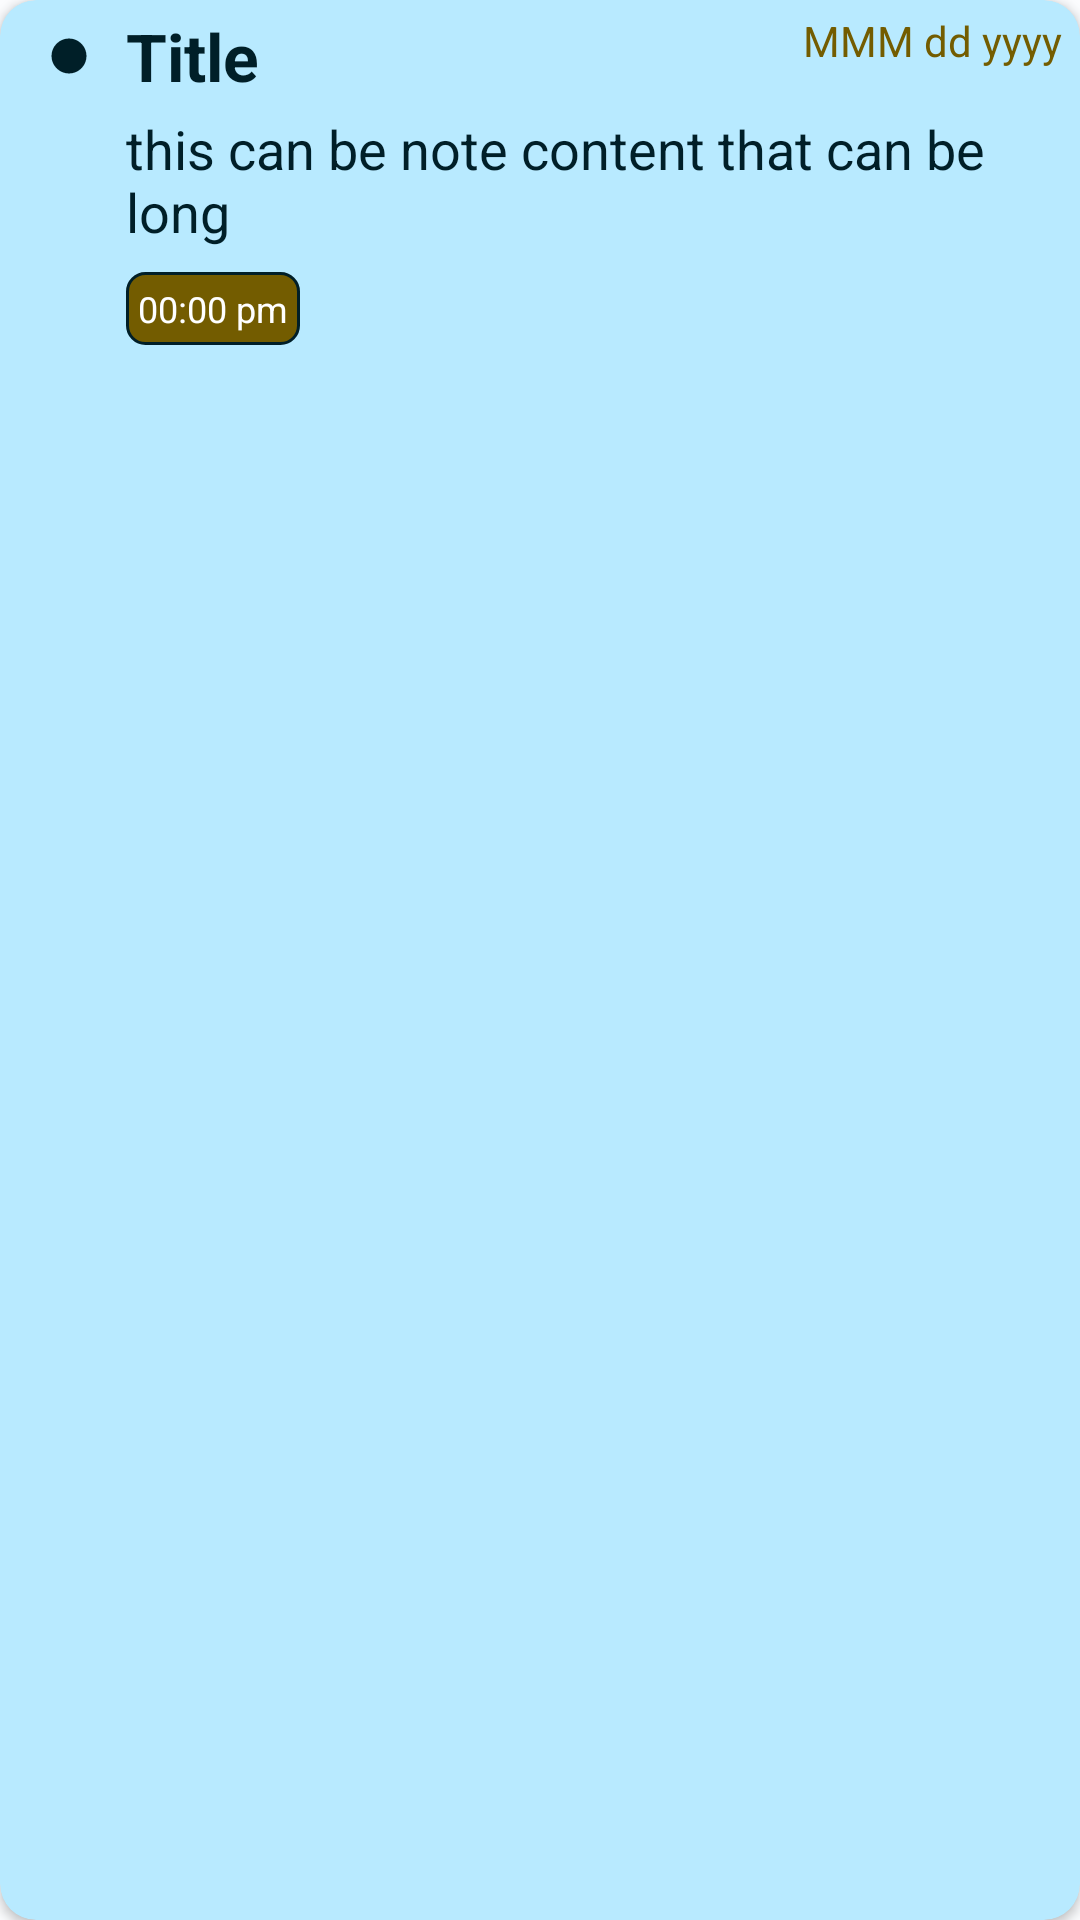

Icon click points for this 1080x1920 phone screenshot, format [x,y]:
dot: [69,56]
